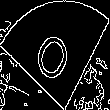O_SW: (31, 21, 79, 89)
